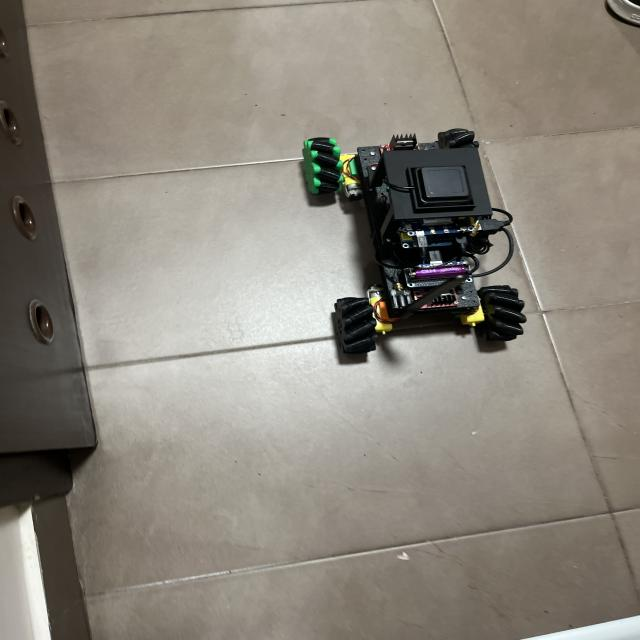robot: (303, 129, 526, 354)
